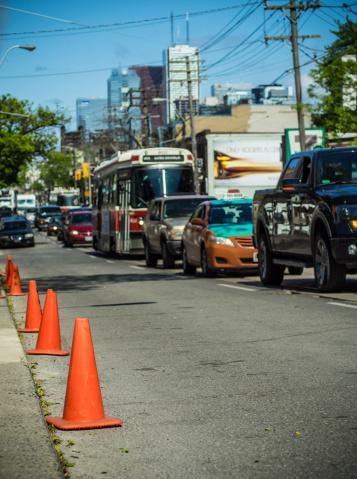Cone: (44, 316, 125, 432), (28, 288, 69, 357), (16, 280, 43, 332), (8, 265, 26, 296)
